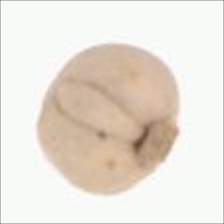L5: (52, 76, 147, 148), (133, 110, 183, 178)
L6: (35, 41, 183, 195)
